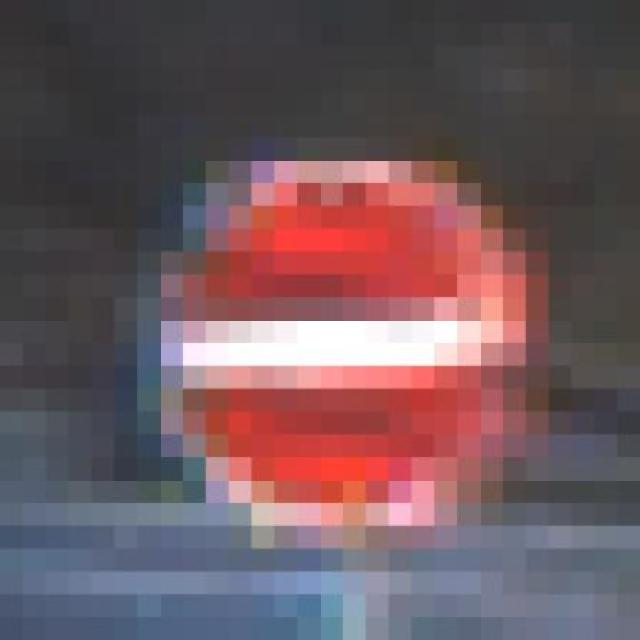No Entry: (91, 91, 526, 548)
